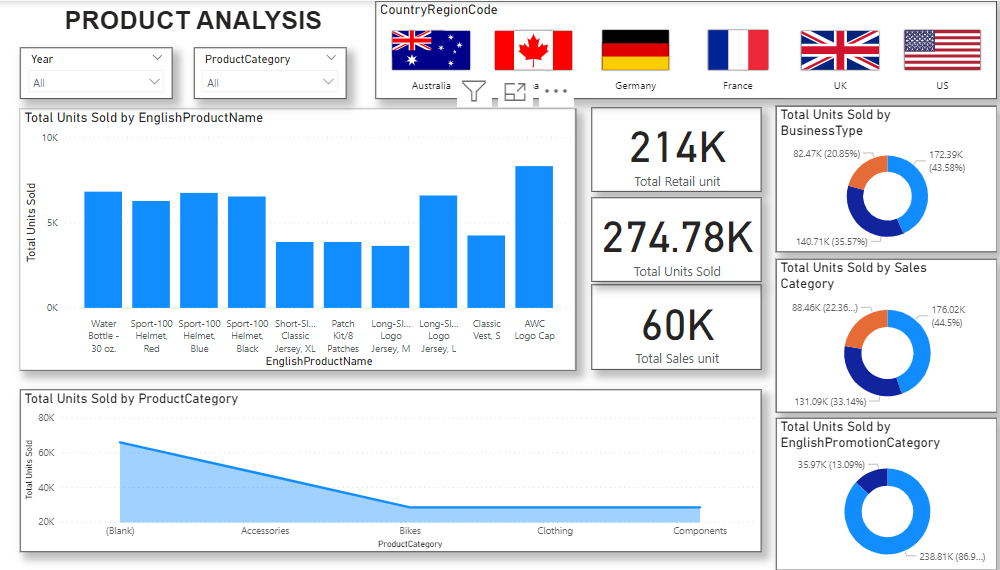

The page's visual inventory and layout, read from the dashboard file:
{"tool":"powerbi","page":{"name":"Dashboard","canvas":[1280,720],"ordinal":0},"visuals":[{"type":"card","fields":{"Values":["RetailSales.Total Retail Unit"]},"box":[655.3,14.6,299.3,113.3],"z":0},{"type":"card","fields":{"Values":["Sales Details.Total Sales Unit"]},"box":[341.4,14.6,299.3,113.3],"z":1000},{"type":"card","fields":{"Values":["Sales Details.Total Unit Sold"]},"box":[967.6,14.6,299.3,113.3],"z":2000},{"type":"donutChart","fields":{"Y":["Sales Details.Total Unit Sold"],"Category":["Sales Details.SalesAmount"]},"box":[967.6,142.4,299.3,271.8],"z":3000},{"type":"donutChart","fields":{"Y":["Sales Details.Total Unit Sold"],"Category":["Product Promotion.EnglishPromotionCategory"]},"box":[967.6,427.1,299.3,276.7],"z":4000},{"type":"donutChart","fields":{"Y":["Sales Details.Total Unit Sold"],"Category":["RetailsCounters.BusinessType"]},"box":[655.3,427.1,299.3,279.9],"z":5000},{"type":"stackedAreaChart","fields":{"Y":["Sales Details.Total Unit Sold"],"Category":["Product Category.ProductCategory"]},"box":[12.9,427.1,627.8,279.9],"z":6000},{"type":"clusteredColumnChart","fields":{"Category":["Product.EnglishProductName"],"Y":["Sales Details.Total Unit Sold"]},"box":[12.9,142.4,941.7,263.7],"z":7000},{"type":"slicer","fields":{"Values":["Region.CountryRegionCode"]},"box":[12.9,14.6,156.9,113.3],"z":8000},{"type":"slicer","fields":{"Values":["Product Category.ProductCategory"]},"box":[169.9,14.6,156.9,113.3],"z":9000}]}

Visuals, with their boxes in screenshot pixels (x1, y1, x2, y2), scaled from the page's 1280x720 canvas onto the 1000x570 screenshot:
card - RetailSales.Total Retail Unit: 512:12:746:101
card - Sales Details.Total Sales Unit: 267:12:501:101
card - Sales Details.Total Unit Sold: 756:12:990:101
donutChart - Sales Details.Total Unit Sold x Sales Details.SalesAmount: 756:113:990:328
donutChart - Sales Details.Total Unit Sold x Product Promotion.EnglishPromotionCategory: 756:338:990:557
donutChart - Sales Details.Total Unit Sold x RetailsCounters.BusinessType: 512:338:746:560
stackedAreaChart - Sales Details.Total Unit Sold x Product Category.ProductCategory: 10:338:501:560
clusteredColumnChart - Product.EnglishProductName x Sales Details.Total Unit Sold: 10:113:746:321
slicer - Region.CountryRegionCode: 10:12:133:101
slicer - Product Category.ProductCategory: 133:12:255:101
